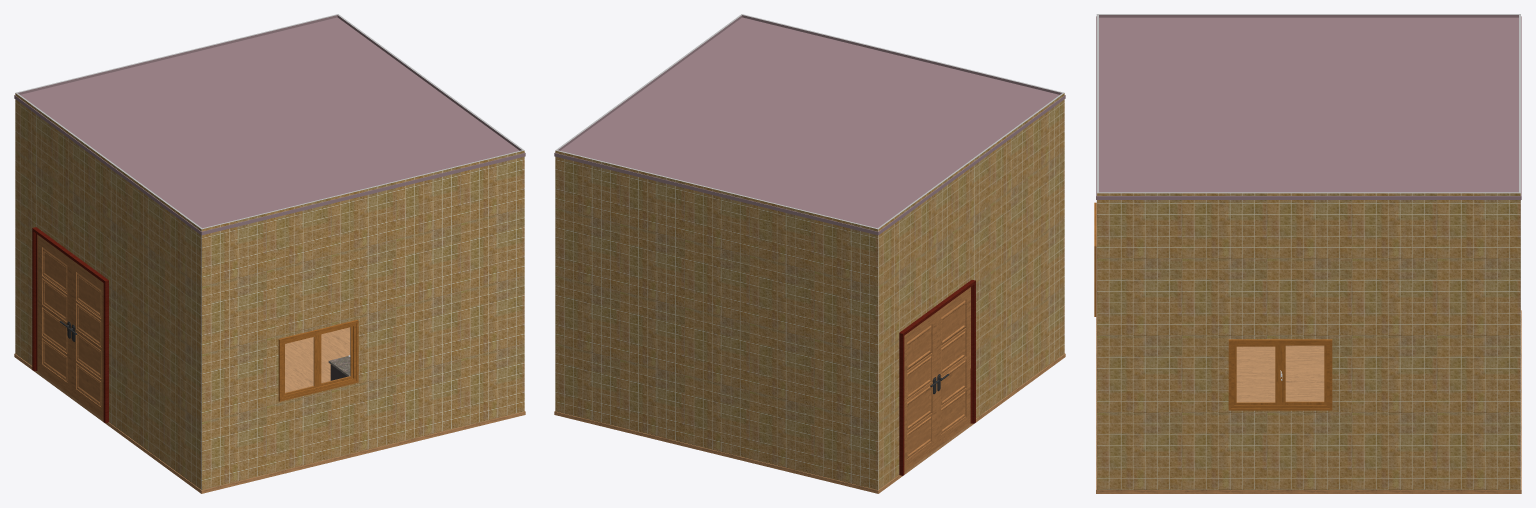
The model's file is ProcTHOR-Train-34.glb.
3 renders of one model, left to right at view 1: azimuth 30°, elevation 25°; view 2: azimuth 150°, elevation 25°; view 3: azimuth 270°, elevation 25°, orthographic. The views are drawn at different scales.
Visible parts, largest first — view 1: WallInside#wall|exterior|0.00|4.96|4.96|4.96, Ceiling#room|2|c, WallInside#wall|exterior|4.96|0.00|4.96|4.96, Doorway_Door_7b, Floor#room|2|f, Doorway_Door_7a, Window_Slider_48x36, Doorway_Double_7, WallInside#wall|2|0.00|0.00|4.96|0.00, WallInside#wall|2|0.00|0.00|0.00|4.96; view 2: WallInside#wall|exterior|0.00|0.00|4.96|0.00, Ceiling#room|2|c, WallInside#wall|exterior|4.96|0.00|4.96|4.96, Doorway_Door_7a, Doorway_Door_7b, Floor#room|2|f, Doorway_Double_7, WallInside#wall|2|0.00|4.96|4.96|4.96, WallInside#wall|2|0.00|0.00|0.00|4.96; view 3: WallInside#wall|exterior|0.00|0.00|0.00|4.96, Ceiling#room|2|c, Floor#room|2|f, Window_Slider_48x36, WallInside#wall|2|4.96|0.00|4.96|4.96, WallInside#wall|exterior|0.00|4.96|4.96|4.96, WallInside#wall|exterior|0.00|0.00|4.96|0.00.
Boxes of the visible parts, x1=… form: WallInside#wall|exterior|0.00|4.96|4.96|4.96: x1=201, y1=150, x2=524, y2=489; Ceiling#room|2|c: x1=14, y1=17, x2=525, y2=235; WallInside#wall|exterior|4.96|0.00|4.96|4.96: x1=15, y1=92, x2=201, y2=489; Doorway_Door_7b: x1=37, y1=234, x2=71, y2=395; Floor#room|2|f: x1=14, y1=327, x2=525, y2=493; Doorway_Door_7a: x1=71, y1=260, x2=103, y2=418; Window_Slider_48x36: x1=278, y1=320, x2=358, y2=401; Doorway_Double_7: x1=32, y1=227, x2=108, y2=423; WallInside#wall|2|0.00|0.00|4.96|0.00: x1=17, y1=14, x2=338, y2=94; WallInside#wall|2|0.00|0.00|0.00|4.96: x1=337, y1=14, x2=523, y2=150; WallInside#wall|exterior|0.00|0.00|4.96|0.00: x1=555, y1=150, x2=878, y2=489; Ceiling#room|2|c: x1=554, y1=17, x2=1065, y2=235; WallInside#wall|exterior|4.96|0.00|4.96|4.96: x1=878, y1=93, x2=1064, y2=489; Doorway_Door_7a: x1=936, y1=287, x2=970, y2=447; Doorway_Door_7b: x1=904, y1=312, x2=936, y2=471; Floor#room|2|f: x1=554, y1=353, x2=1065, y2=493; Doorway_Double_7: x1=899, y1=279, x2=975, y2=475; WallInside#wall|2|0.00|4.96|4.96|4.96: x1=741, y1=14, x2=1063, y2=94; WallInside#wall|2|0.00|0.00|0.00|4.96: x1=557, y1=14, x2=742, y2=150; WallInside#wall|exterior|0.00|0.00|0.00|4.96: x1=1097, y1=193, x2=1520, y2=489; Ceiling#room|2|c: x1=1096, y1=16, x2=1521, y2=199; Floor#room|2|f: x1=1096, y1=310, x2=1521, y2=493; Window_Slider_48x36: x1=1228, y1=339, x2=1332, y2=410; WallInside#wall|2|4.96|0.00|4.96|4.96: x1=1097, y1=14, x2=1520, y2=17; WallInside#wall|exterior|0.00|4.96|4.96|4.96: x1=1096, y1=14, x2=1097, y2=489; WallInside#wall|exterior|0.00|0.00|4.96|0.00: x1=1520, y1=14, x2=1520, y2=489.
Size of what is drawn, in the model's own units: 5.1 by 3.9 by 5.03.
Materials: 78 (36 with a texture image).
